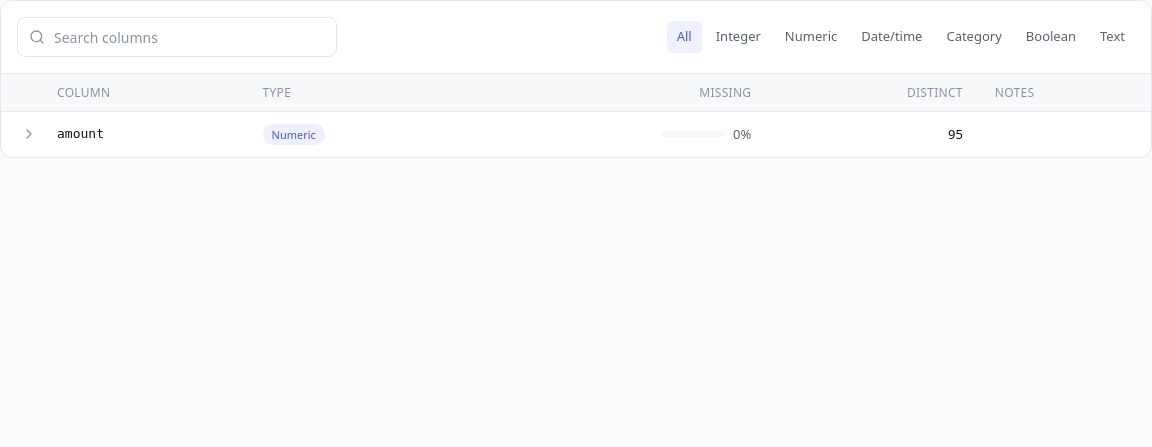
DatasetColumnsPage › reveals detailed statistics when a column is expanded
Check: the text "amount" is shown, box [41,112,246,157]
Check: the text "Std. deviation" is not shown
Click the button named "show statistics for amount" at (29, 134), box [17,122,41,146]
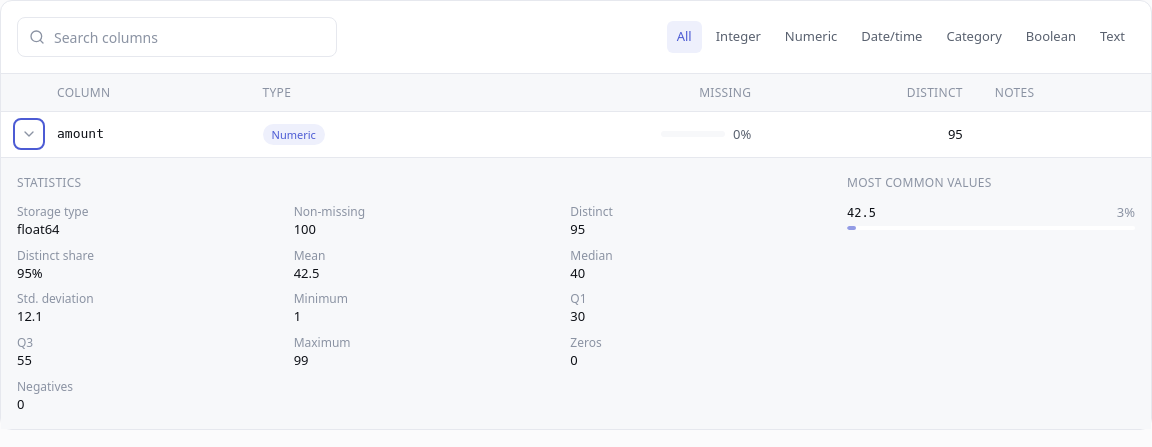
Check: the text "Std. deviation" is shown, box [17,290,94,307]
Check: the text "12.1" is shown, box [17,307,43,325]
